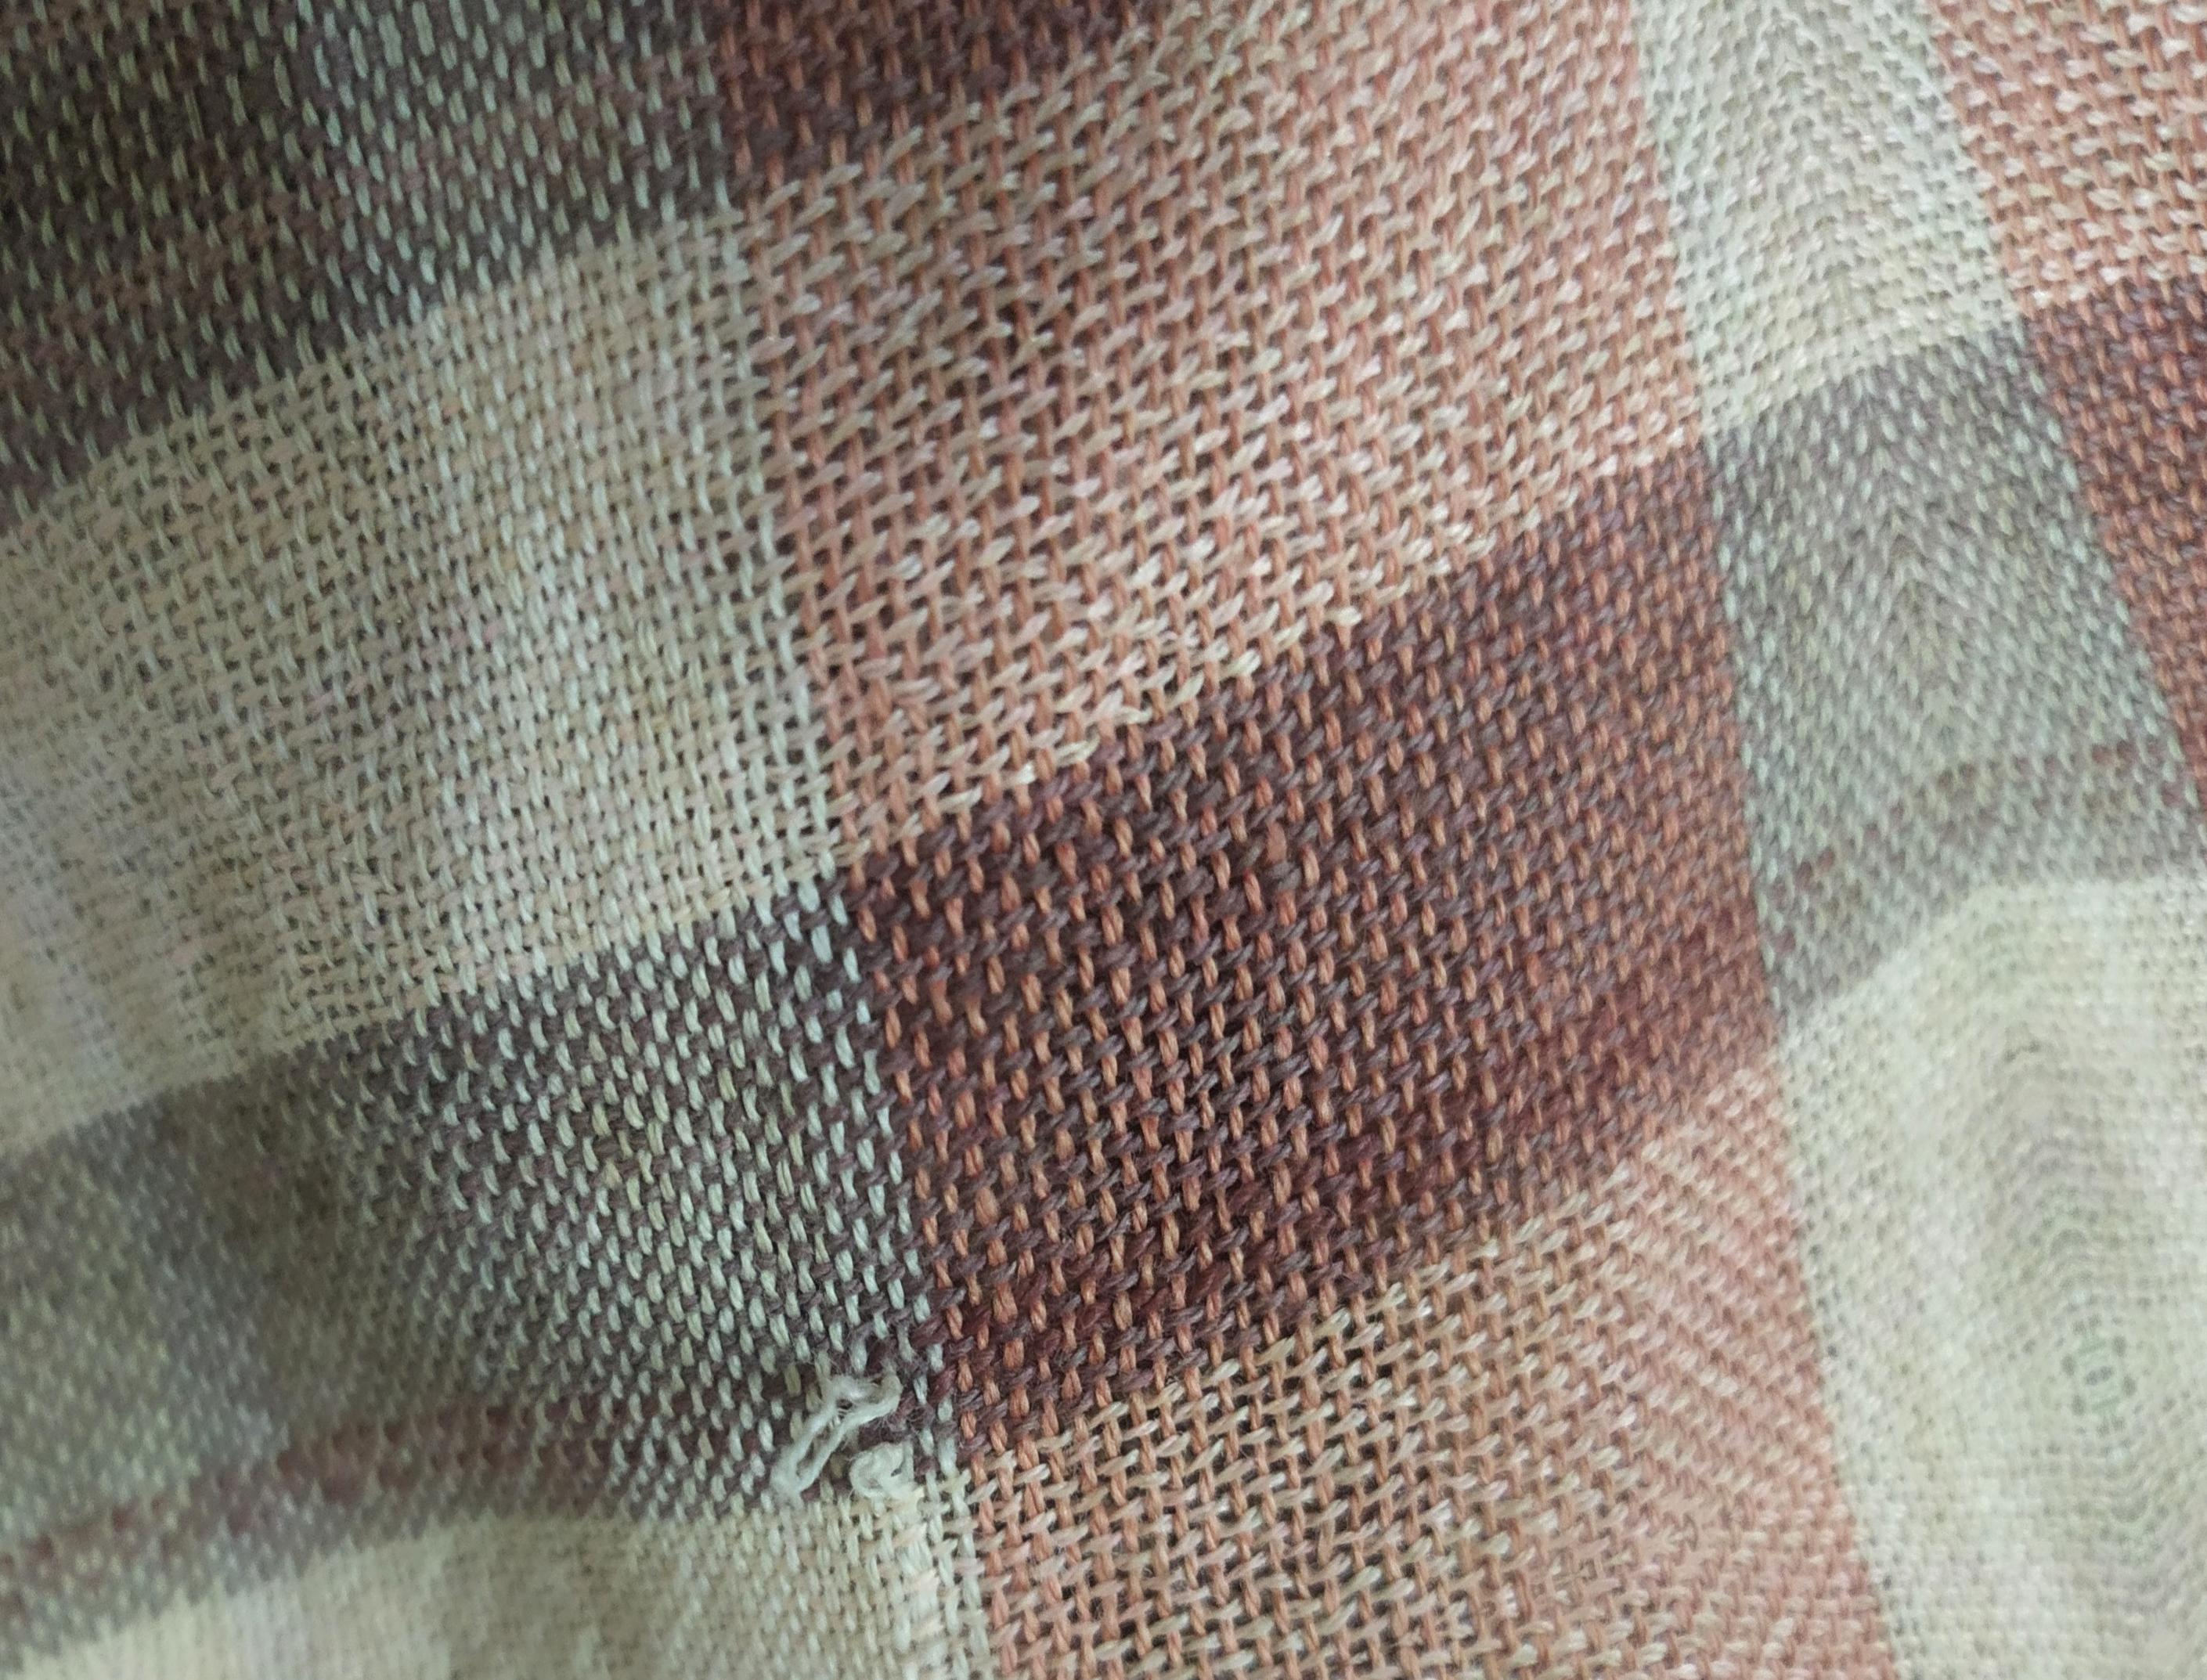snag: (737, 1357, 963, 1534)
